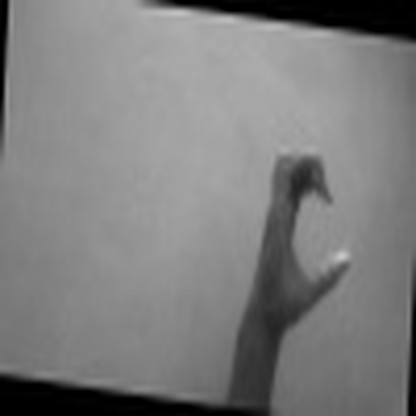c: (259, 144, 360, 329)
